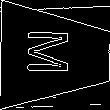M_E: (29, 33, 81, 79)
